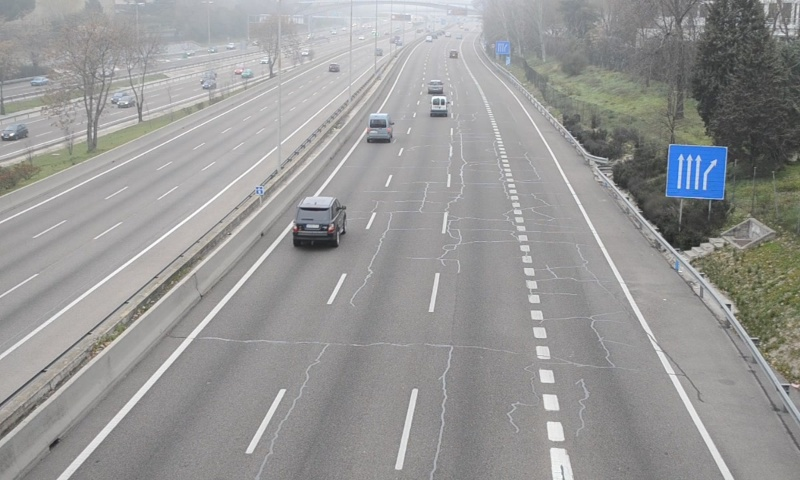car: (292, 197, 346, 243)
van: (366, 112, 394, 141), (428, 94, 448, 118)
